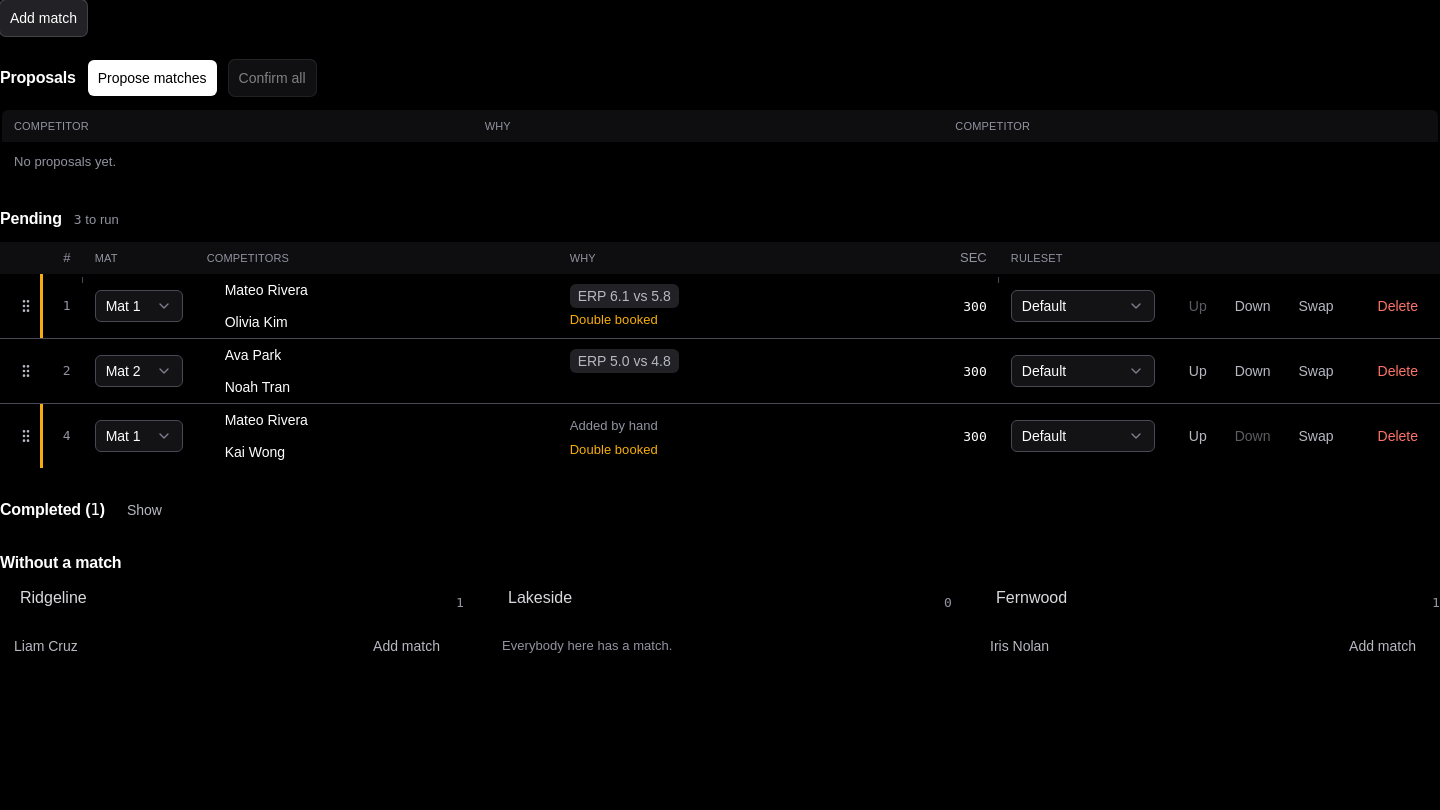
MatchesTab › marks the option and warns naming the competitor when adding a match by hand
Click the 1st button "Add match" at (43,18), box [0,0,87,36]
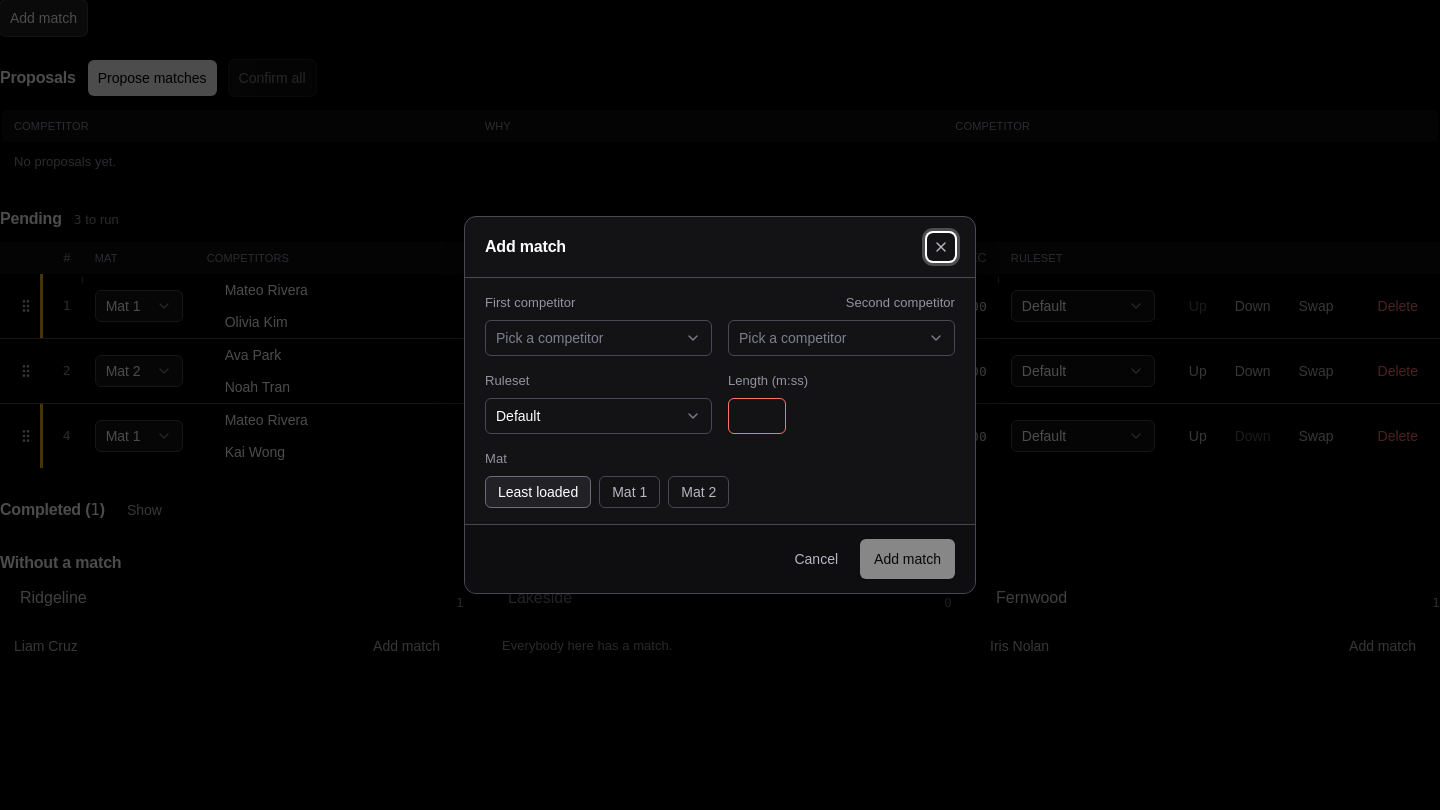
Click the dropdown named "First competitor" at (598,338), box [485,320,712,356]
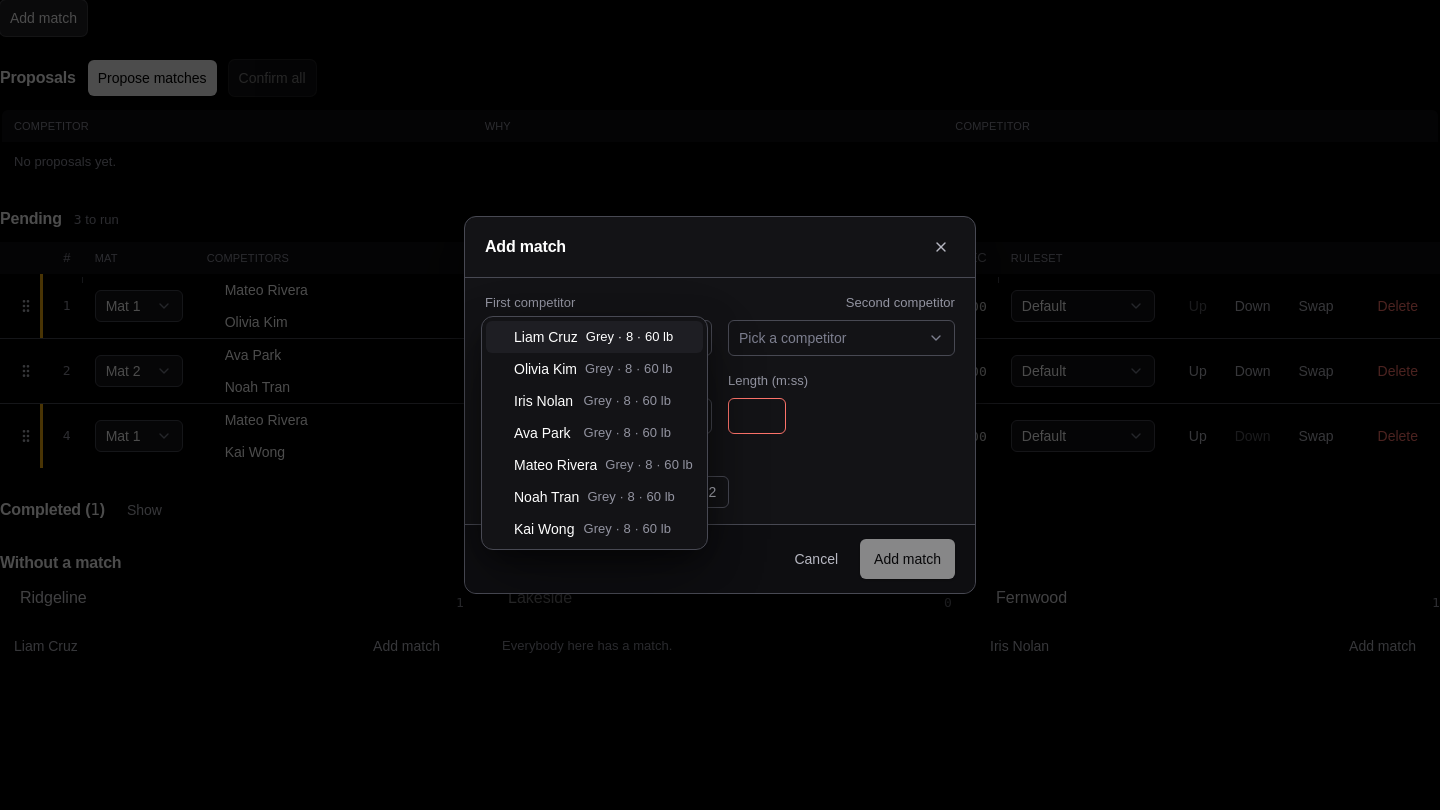
Now the option "Liam Cruz Grey · 8 · 60 lb" is shown, box [486,321,703,353]
Click the option "Mateo Rivera Grey · 8 · 60 lb" at (594,465), box [486,449,703,481]
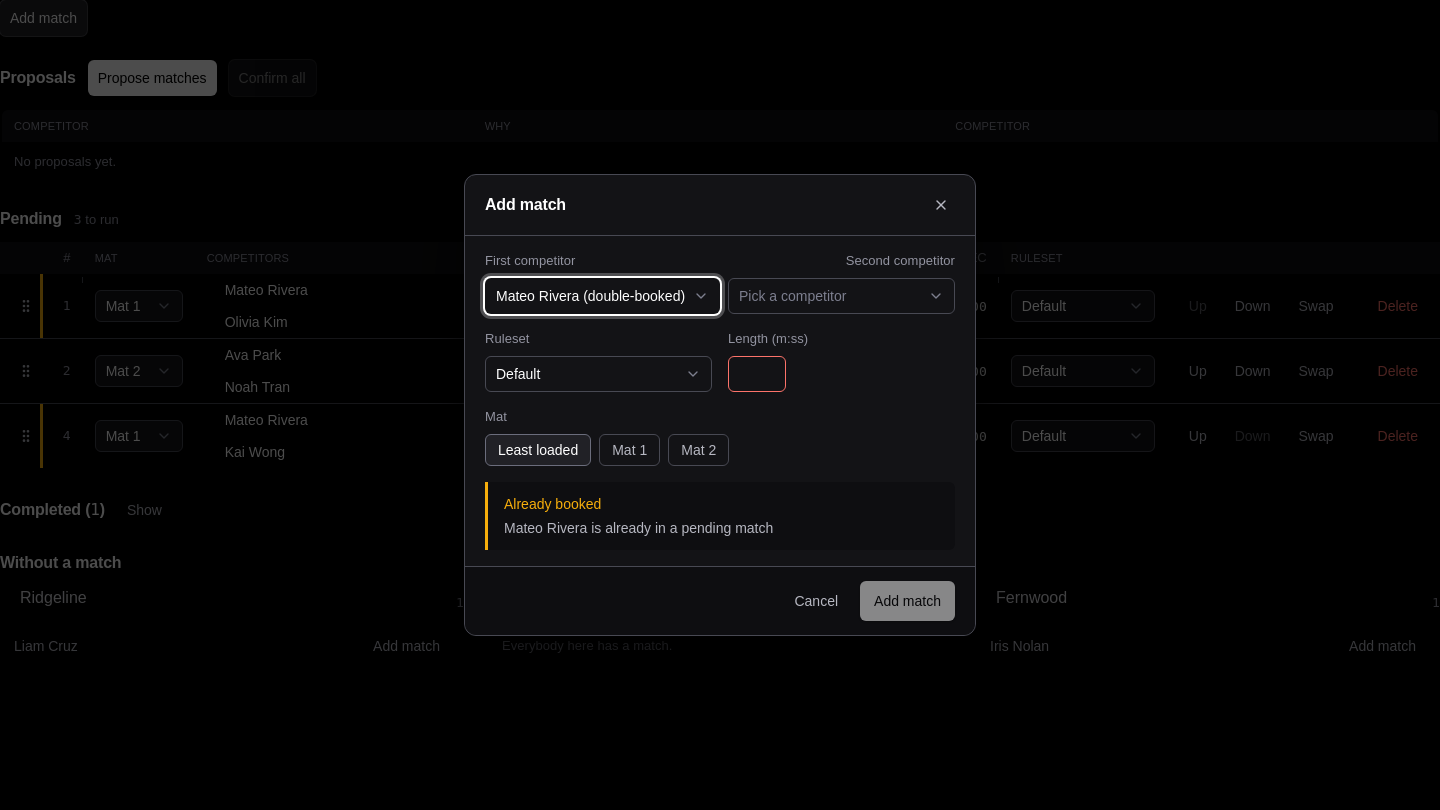
Now the text "Mateo Rivera is already in a pending match" is shown, box [504,520,773,536]
